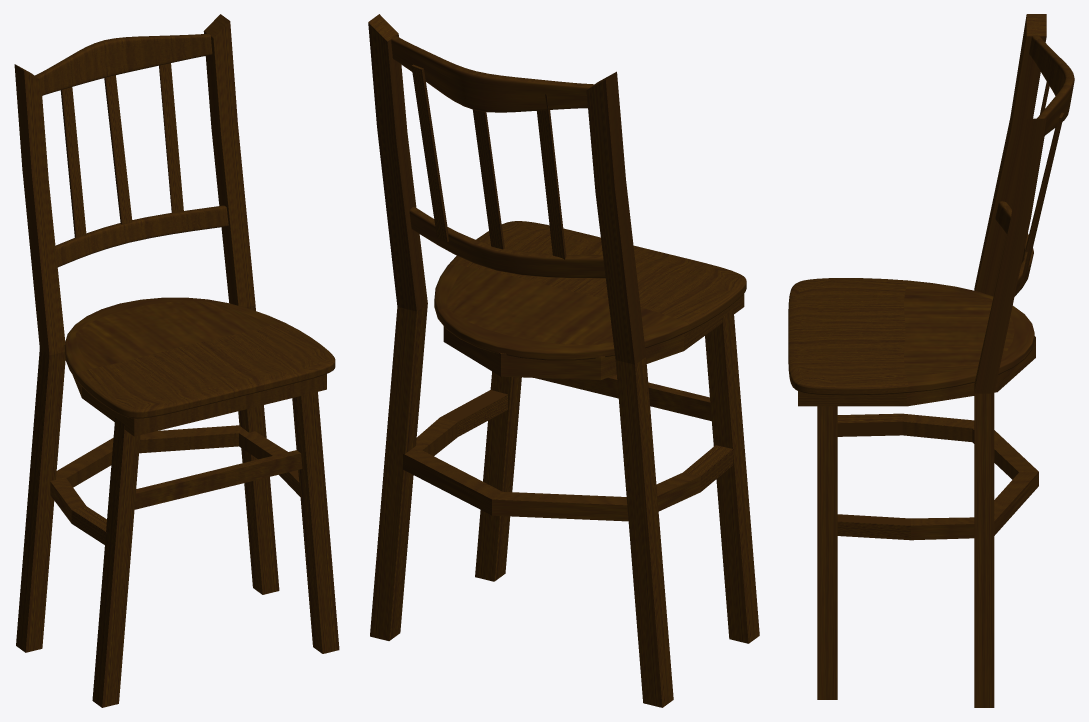
Rendered from librarychair.fbx.
3 renders of one model, left to right at view 1: azimuth 30°, elevation 25°; view 2: azimuth 150°, elevation 25°; view 3: azimuth 270°, elevation 25°, orthographic. The views are drawn at different scales.
Visible parts, largest first — view 1: sit, leg, leg1, leg2, leg3, sit5, sit4, sit3, sit2, pCube1, sittingpole2, sittingpole (+1 smaller); view 2: sit, leg, leg1, sit5, leg2, sit4, leg3, sit2, sit3, pCube1, sittingpole2, sittingpole (+1 smaller); view 3: sit, leg1, sit5, leg3, leg, sit2, sit4, sittingpole2, sit3.
Boxes of the visible parts, <box> form: sit: <box>64,297,335,418</box>; leg: <box>14,64,65,652</box>; leg1: <box>203,14,279,594</box>; leg2: <box>92,418,140,707</box>; leg3: <box>292,392,339,653</box>; sit5: <box>50,425,300,544</box>; sit4: <box>35,33,212,95</box>; sit3: <box>55,205,228,267</box>; sit2: <box>72,374,326,436</box>; pCube1: <box>134,450,302,509</box>; sittingpole2: <box>159,63,183,212</box>; sittingpole: <box>60,87,86,237</box>; sit: <box>434,221,746,360</box>; leg: <box>586,71,673,707</box>; leg1: <box>368,14,427,640</box>; sit5: <box>403,390,735,521</box>; leg2: <box>705,309,759,643</box>; sit4: <box>391,35,594,112</box>; leg3: <box>475,371,521,581</box>; sit2: <box>443,293,744,380</box>; sit3: <box>409,207,605,278</box>; pCube1: <box>535,374,711,420</box>; sittingpole2: <box>411,64,448,241</box>; sittingpole: <box>537,94,566,259</box>; sit: <box>788,278,1034,395</box>; leg1: <box>974,118,1046,707</box>; sit5: <box>837,413,1038,540</box>; leg3: <box>817,406,837,699</box>; leg: <box>974,14,1046,296</box>; sit2: <box>798,336,1035,406</box>; sit4: <box>1029,35,1074,135</box>; sittingpole2: <box>1020,112,1064,284</box>; sit3: <box>995,201,1033,296</box>.
Size of the model in its own units: 2.12 by 4.45 by 2.
